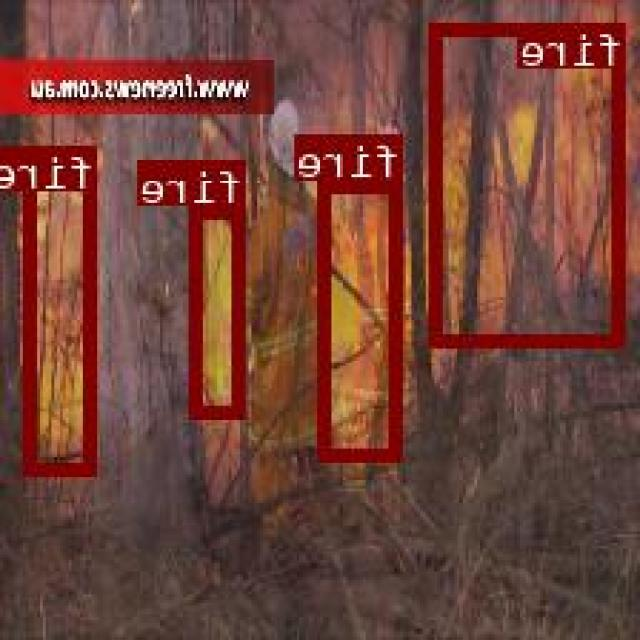fire: (434, 22, 627, 345), (27, 144, 99, 474), (321, 178, 405, 458), (193, 206, 248, 417)
